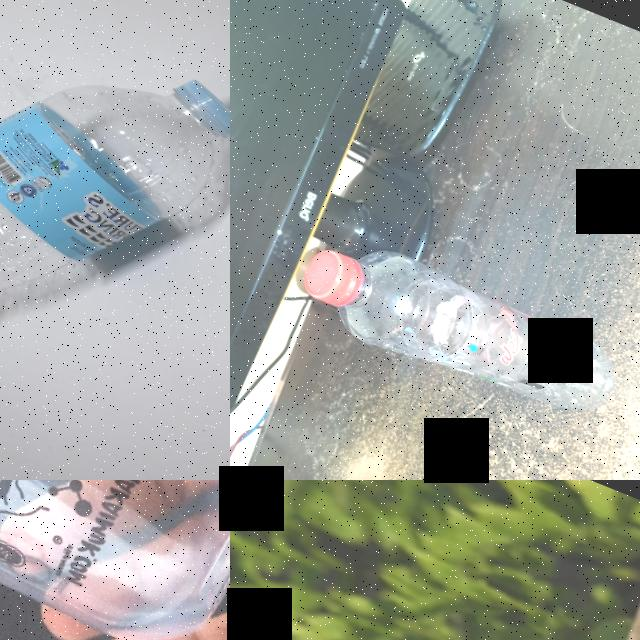bottle: (0, 0, 230, 455), (286, 214, 635, 437)
cup: (0, 480, 230, 640)
